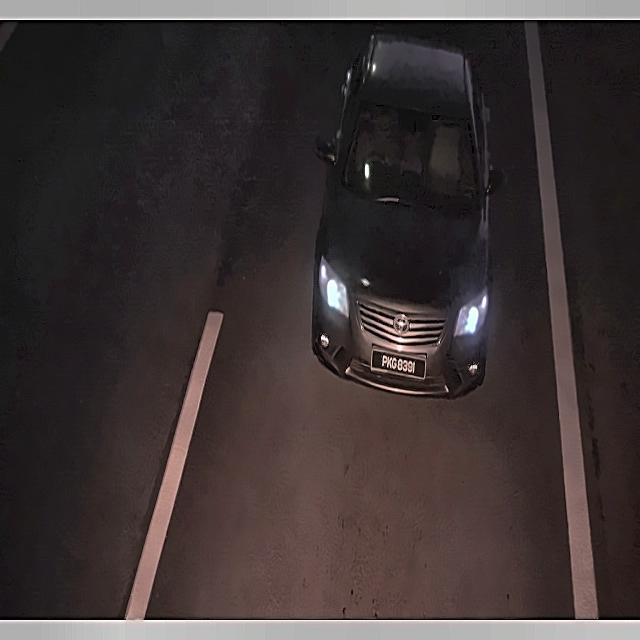car: (371, 342, 428, 387)
